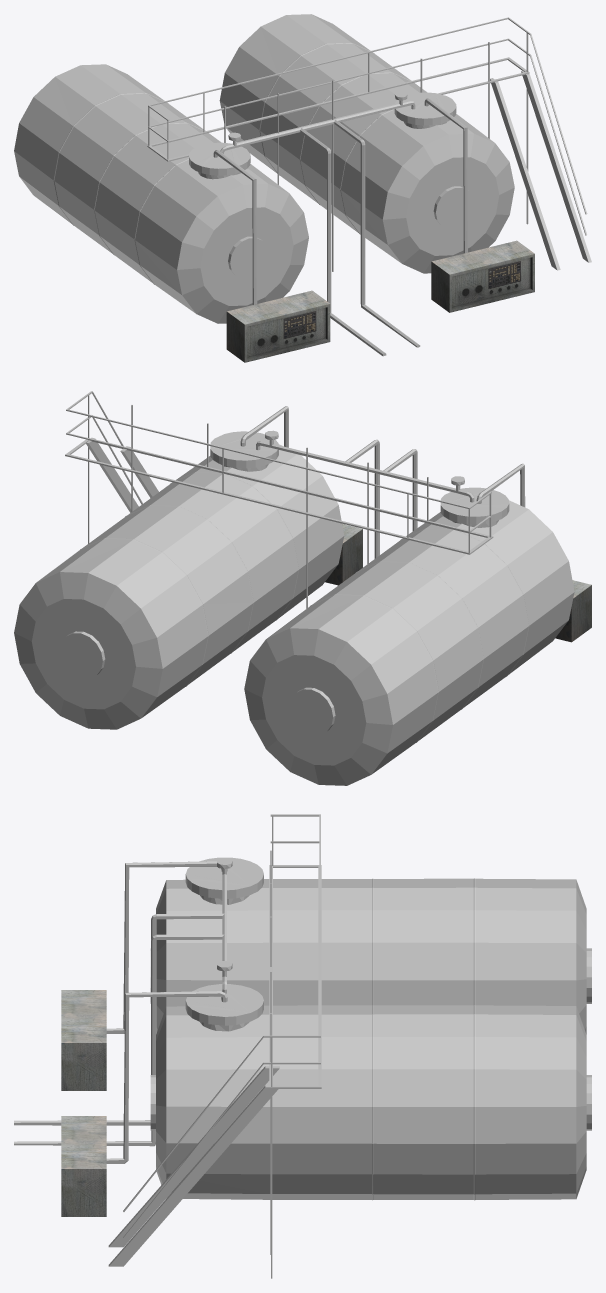
File: Environmet_5_LOD01.fbx
3 renders of one model, top to bottom at view 1: azimuth 30°, elevation 25°; view 2: azimuth 150°, elevation 25°; view 3: azimuth 270°, elevation 25°, orthographic. The views are drawn at different scales.
Parts seen in each view (by area): view 1: Environmet_5_LOD01; view 2: Environmet_5_LOD01; view 3: Environmet_5_LOD01.
Part boxes in pixels (bbox=[...]): Environmet_5_LOD01: bbox=[14, 14, 591, 362]; Environmet_5_LOD01: bbox=[14, 391, 591, 785]; Environmet_5_LOD01: bbox=[14, 814, 591, 1278].
Size of the model in its own units: 8.13 by 3.78 by 8.17.
